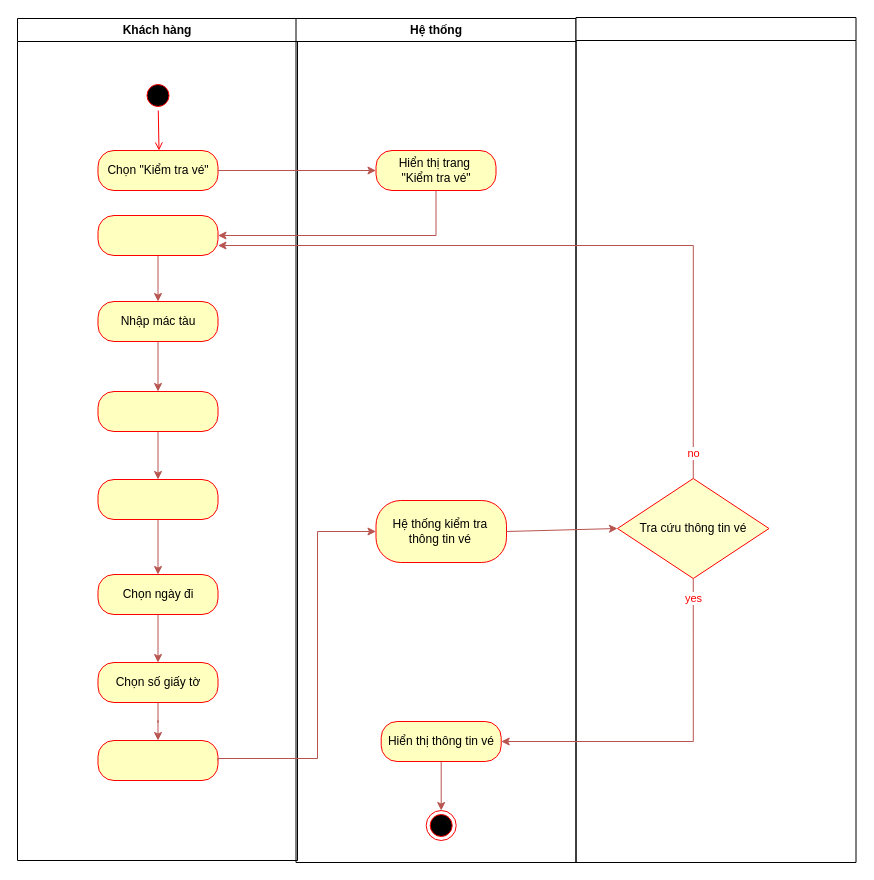
The diagram is 874 pixels wide and 880 high, and some of its shapes have lost their labels. The box of each missing label's shape, as (x1, y1, x2, y2) in pixels:
Database: (575, 16, 856, 862)
Nhấn nút "Kiểm tra vé": (97, 740, 218, 780)
Nhập ga đi: (97, 390, 218, 432)
Nhập ga đến: (97, 478, 218, 520)
Nhập mã vé: (97, 214, 218, 256)
